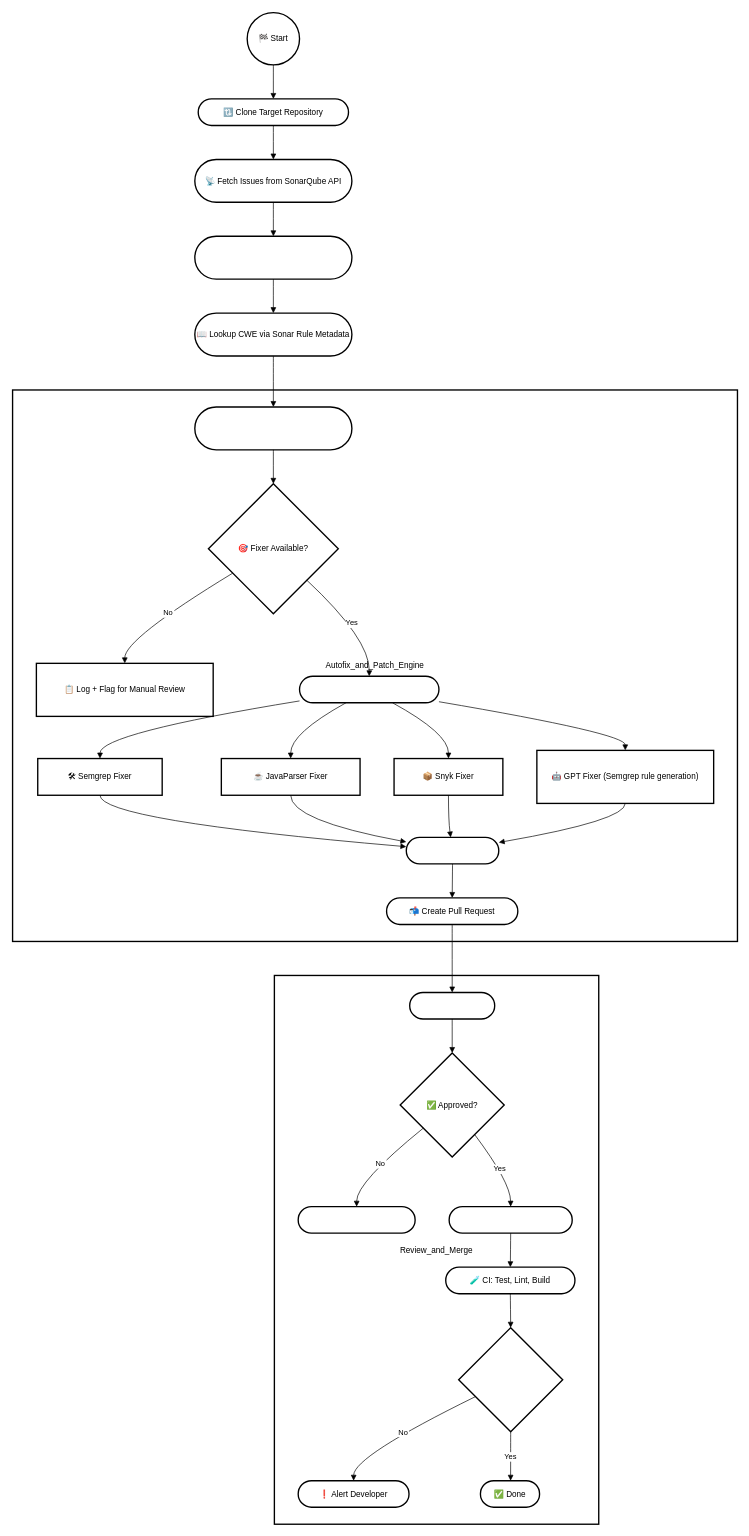
Image size: 749x1536. Some labels were removed from this diagram. The shapes that lost their labels are listed below. From the top down, each one's centre as x and y in pixels, then its label:
point (273, 257): 🔍 Extract File, Line, Snippet, Rule Key
point (273, 428): 📘 Map CWE → Fixer Engine
point (369, 689): ⚙️ Route to Fixer Engine
point (452, 850): 🧪 Validate Fix
point (452, 1005): 🔁 PR Review
point (356, 1220): 🛑 Request Changes
point (510, 1220): 🚀 Merge + Trigger CI
point (510, 1379): ✅ CI Passed?
